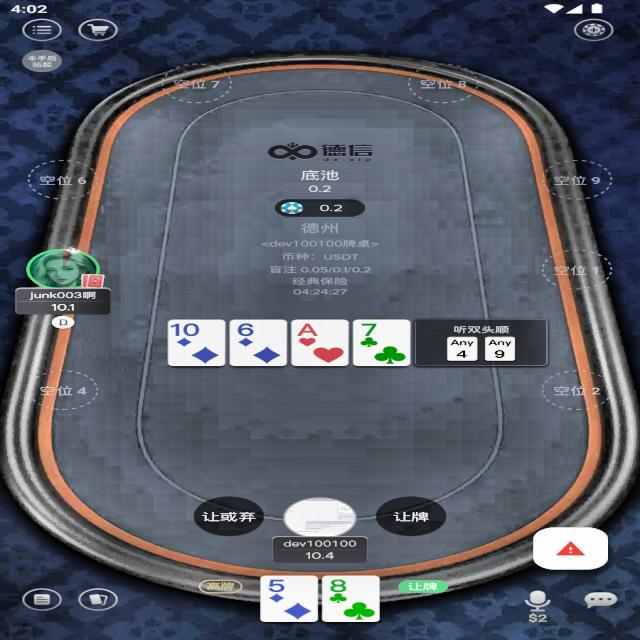10f: (171, 320, 200, 338)
5f: (264, 578, 291, 594)
6f: (234, 320, 257, 338)
7m: (358, 321, 380, 337)
8m: (326, 577, 349, 595)
Ah: (296, 320, 318, 338)
